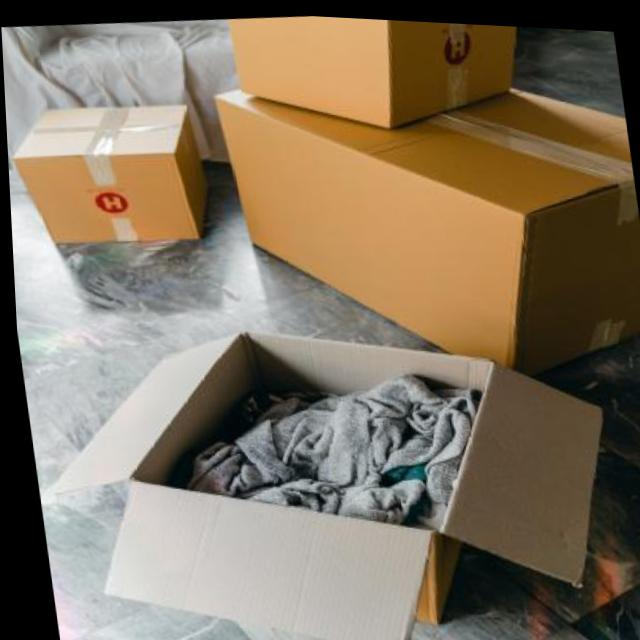box: (21, 285, 637, 640), (200, 41, 640, 417), (219, 9, 545, 146), (4, 86, 221, 265)
